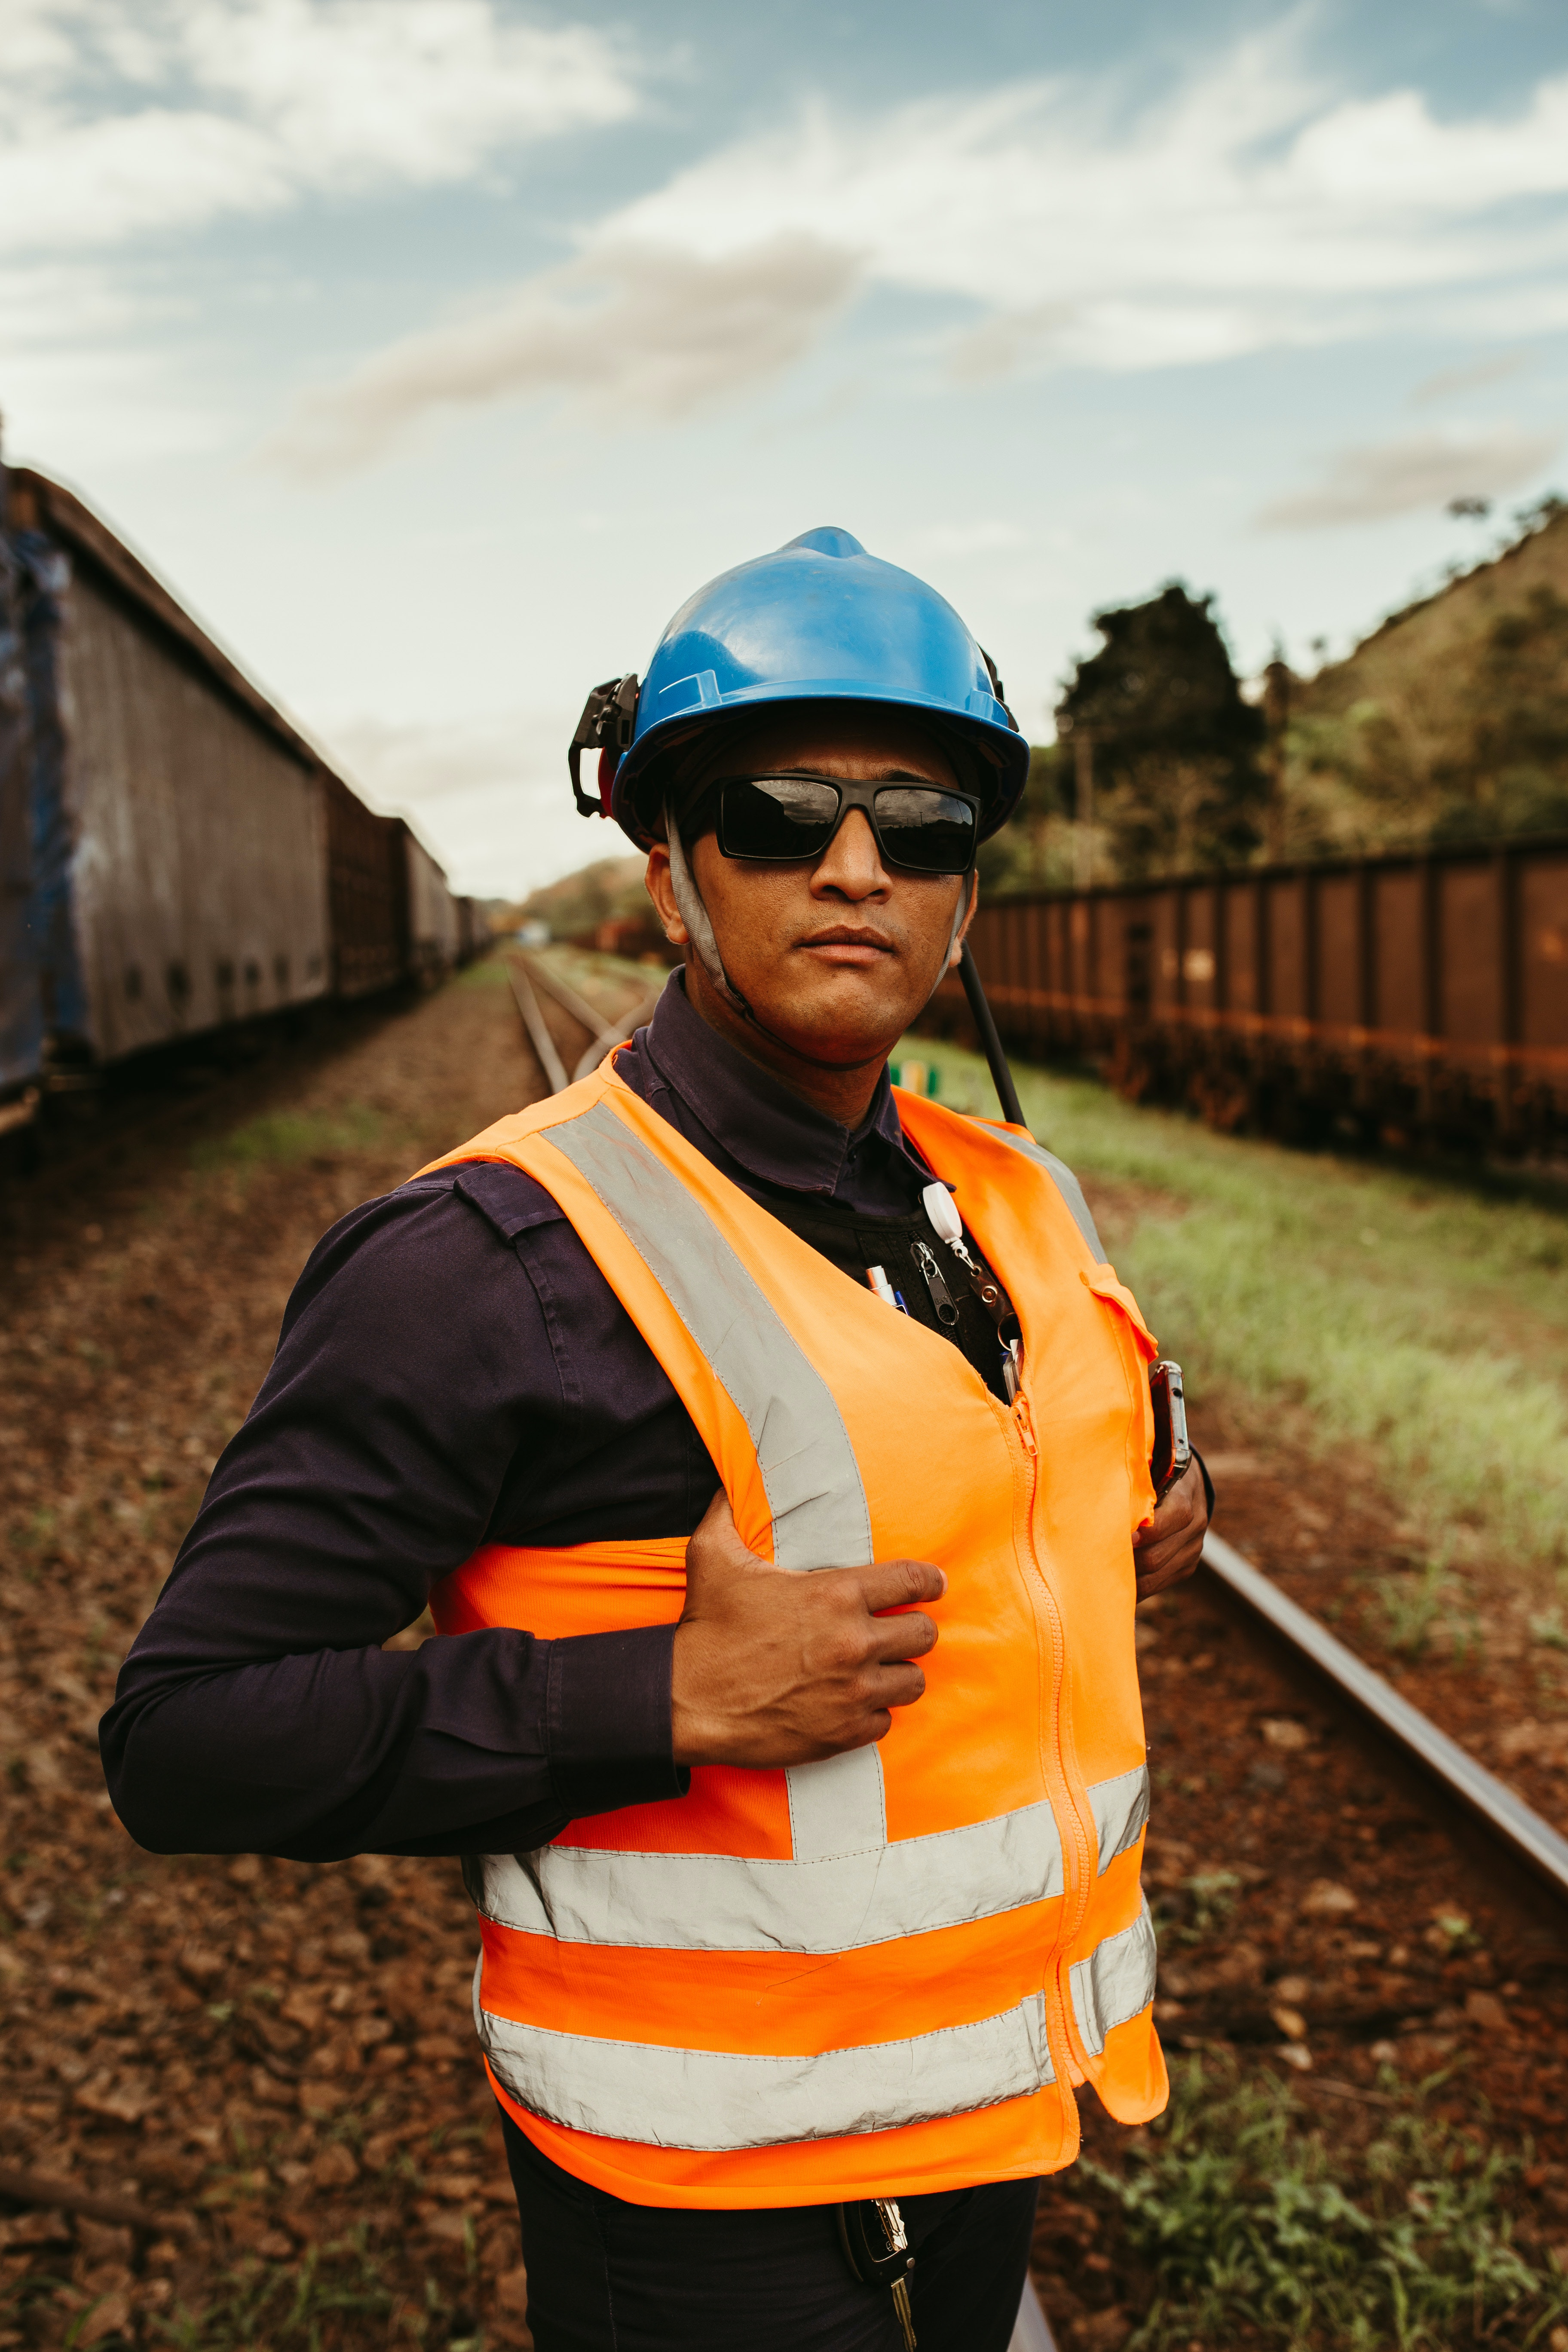Helmet: (572, 488, 1115, 1085)
Reflective vest: (320, 1013, 1232, 2243)
